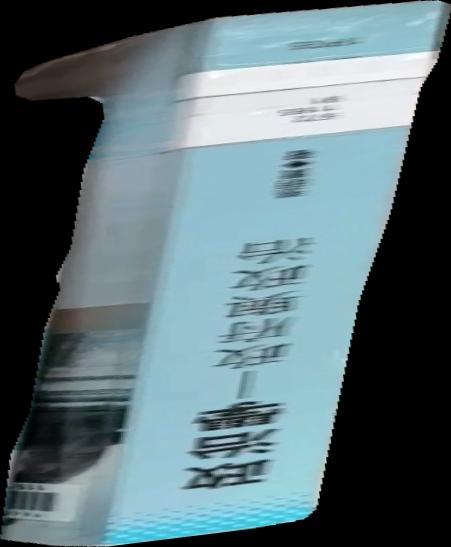reverse: (1, 1, 451, 547)
